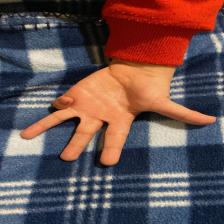five: (21, 66, 215, 163)
